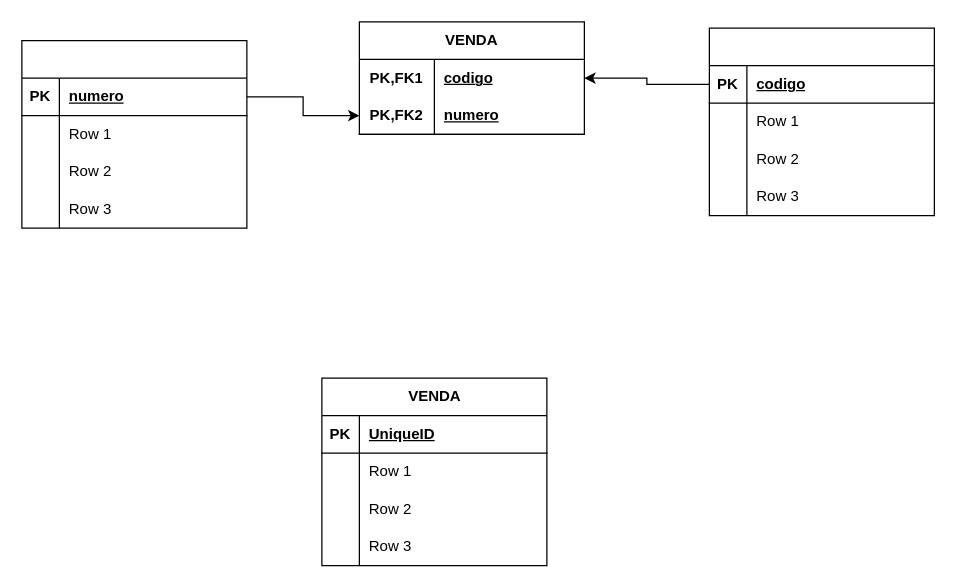
Image size: 956x588. Some labels were removed from this diagram. The box of each missing label's shape, as (x1, y1, x2, y2) in pixels:
NOTAFISCAL: (21, 39, 247, 228)
PRODUTO: (708, 27, 934, 216)
